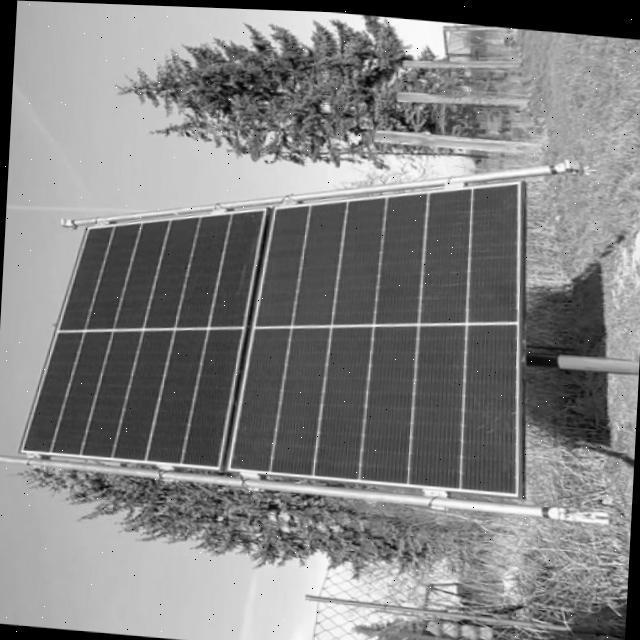Normal Solar Panel: (18, 136, 534, 494)
